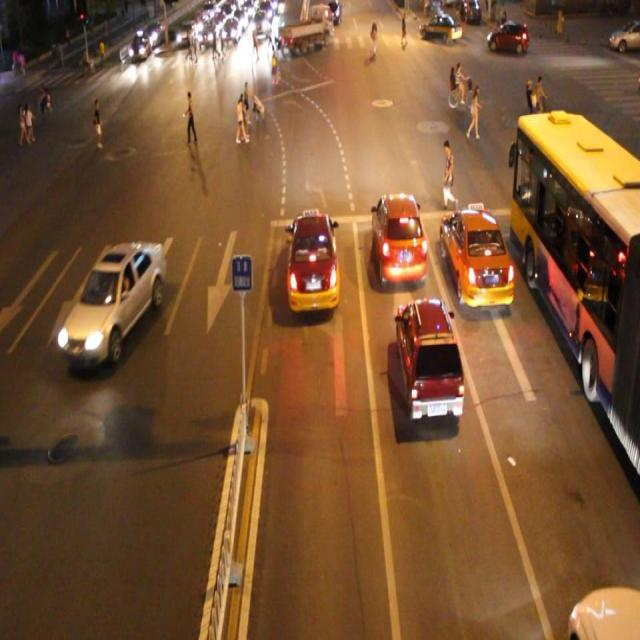car: (58, 238, 166, 369), (395, 297, 466, 422), (440, 204, 518, 308), (286, 212, 340, 313), (373, 192, 429, 288), (566, 583, 640, 640)
van: (511, 116, 640, 468)
